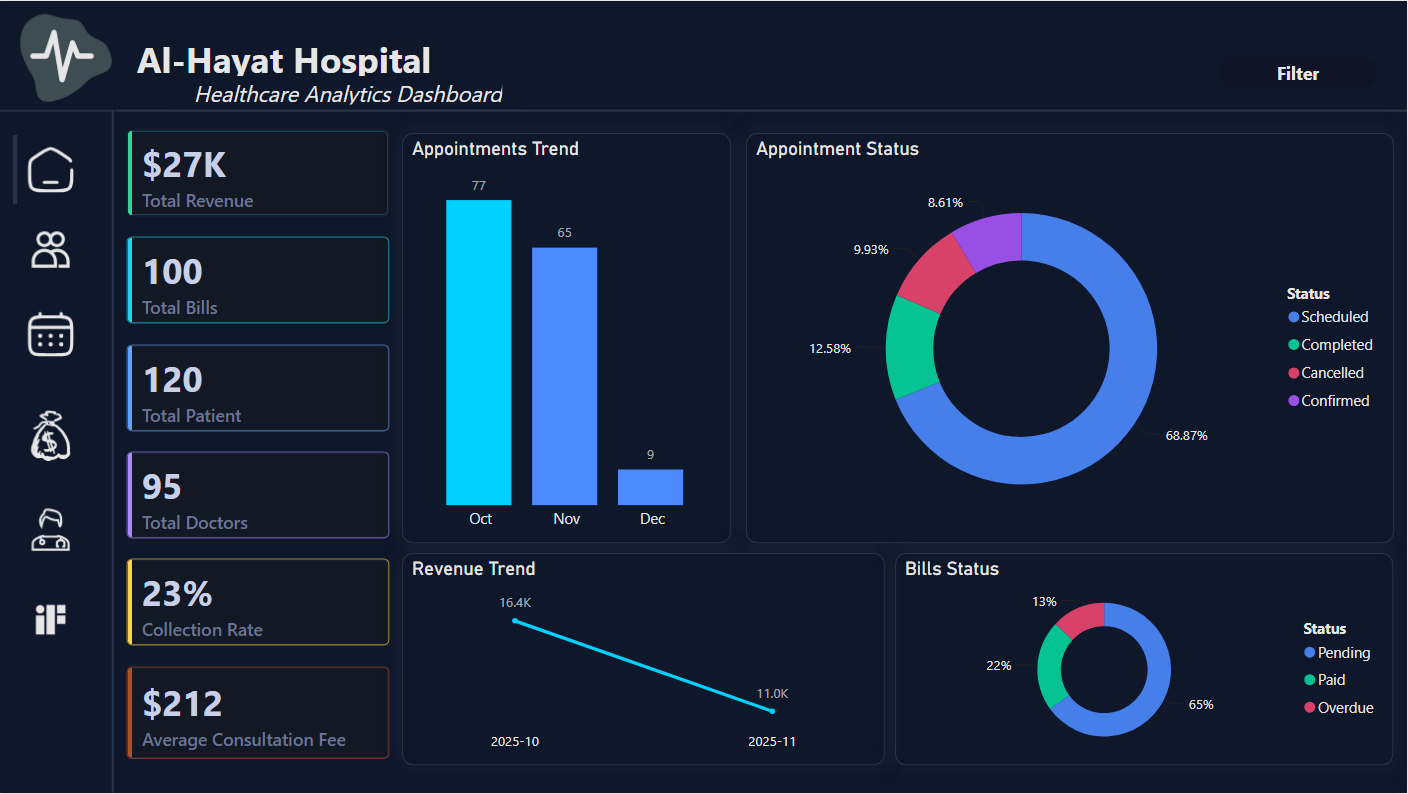

The page's visual inventory and layout, read from the dashboard file:
{"tool":"powerbi","page":{"name":"Overview","canvas":[1280,720],"ordinal":0},"visuals":[{"type":"shape","box":[106.3,89.3,1173.7,21.3],"z":0},{"type":"shape","box":[90,100.1,27,619.9],"z":1000},{"type":"shape","box":[0,88.9,105.8,21.4],"z":2000},{"type":"shape","box":[107,22.6,303.8,58.5],"z":3000},{"type":"actionButton","box":[6.9,0,114.8,100.1],"z":4000},{"type":"actionButton","box":[20.2,126,57.4,54],"z":5000},{"type":"actionButton","box":[20.2,198,57.4,54],"z":6000},{"type":"actionButton","box":[20.2,275.6,57.4,54],"z":9000},{"type":"actionButton","box":[20.2,367.9,57.4,54],"z":10000},{"type":"actionButton","box":[20.2,454.5,57.4,54],"z":11000},{"type":"actionButton","box":[20.2,535.5,57.4,54],"z":12000},{"type":"shape","box":[0,121.5,29.2,63],"z":13000},{"type":"cardVisual","fields":{"Data":["Measure.Total Doctors"]},"box":[110.6,404.6,249.5,89.3],"z":14000},{"type":"cardVisual","fields":{"Data":["Measure.Total Patient"]},"box":[110.6,307,249.5,89.3],"z":15000},{"type":"cardVisual","fields":{"Data":["Measure.Average Consultation Fee"]},"box":[110.6,599.6,249.5,95],"z":16000},{"type":"cardVisual","fields":{"Data":["Measure.Total Bills"]},"box":[110.6,209.5,249.5,89.3],"z":17000},{"type":"cardVisual","title":"Total Revenue","fields":{"Data":["Measure.Total Revenue"]},"box":[110.6,112,249.5,89.3],"z":18000},{"type":"cardVisual","title":"💵 Collection Rate","fields":{"Data":["Measure.Collection Rate"]},"box":[110.6,502.1,249.5,89.3],"z":19000},{"type":"lineChart","title":"Revenue Trend","fields":{"Y":["Measure.Total Revenue"],"Category":["Calendar.Year-Month","Calendar.Month"]},"box":[366.2,501.6,439.2,193.1],"z":20000},{"type":"columnChart","title":"Appointments Trend","fields":{"Category":["Calendar.Month"],"Y":["CountNonNull(Appointments.AppointmentTime)"]},"box":[366.2,120.1,299.1,373.3],"z":21000},{"type":"donutChart","title":"Appointment Status","fields":{"Category":["Appointments.Status"],"Y":["Measure.Total Appointments"]},"box":[679.4,120.1,588.8,373.3],"z":22000},{"type":"donutChart","title":"Bills Status","fields":{"Category":["Bills.Status"],"Y":["Measure.Total Bills"]},"box":[814.9,501.6,453.4,193.1],"z":23000},{"type":"actionButton","box":[1109.1,49.6,143.5,30],"z":25000},{"type":"shape","box":[154.9,67.8,325.4,27.8],"z":26000}]}

Visuals, with their boxes in screenshot pixels (x1, y1, x2, y2), scaled from the page's 1280x720 canvas onto the 1408x794 screenshot:
shape: (x1=117, y1=98, x2=1407, y2=122)
shape: (x1=99, y1=110, x2=129, y2=793)
shape: (x1=0, y1=98, x2=116, y2=122)
shape: (x1=118, y1=25, x2=452, y2=89)
actionButton: (x1=8, y1=0, x2=134, y2=110)
actionButton: (x1=22, y1=139, x2=85, y2=198)
actionButton: (x1=22, y1=218, x2=85, y2=278)
actionButton: (x1=22, y1=304, x2=85, y2=363)
actionButton: (x1=22, y1=406, x2=85, y2=465)
actionButton: (x1=22, y1=501, x2=85, y2=561)
actionButton: (x1=22, y1=591, x2=85, y2=650)
shape: (x1=0, y1=134, x2=32, y2=203)
cardVisual - Measure.Total Doctors: (x1=122, y1=446, x2=396, y2=545)
cardVisual - Measure.Total Patient: (x1=122, y1=339, x2=396, y2=437)
cardVisual - Measure.Average Consultation Fee: (x1=122, y1=661, x2=396, y2=766)
cardVisual - Measure.Total Bills: (x1=122, y1=231, x2=396, y2=330)
"Total Revenue" cardVisual: (x1=122, y1=124, x2=396, y2=222)
"💵 Collection Rate" cardVisual: (x1=122, y1=554, x2=396, y2=652)
"Revenue Trend" lineChart: (x1=403, y1=553, x2=886, y2=766)
"Appointments Trend" columnChart: (x1=403, y1=132, x2=732, y2=544)
"Appointment Status" donutChart: (x1=747, y1=132, x2=1395, y2=544)
"Bills Status" donutChart: (x1=896, y1=553, x2=1395, y2=766)
actionButton: (x1=1220, y1=55, x2=1378, y2=88)
shape: (x1=170, y1=75, x2=528, y2=105)
